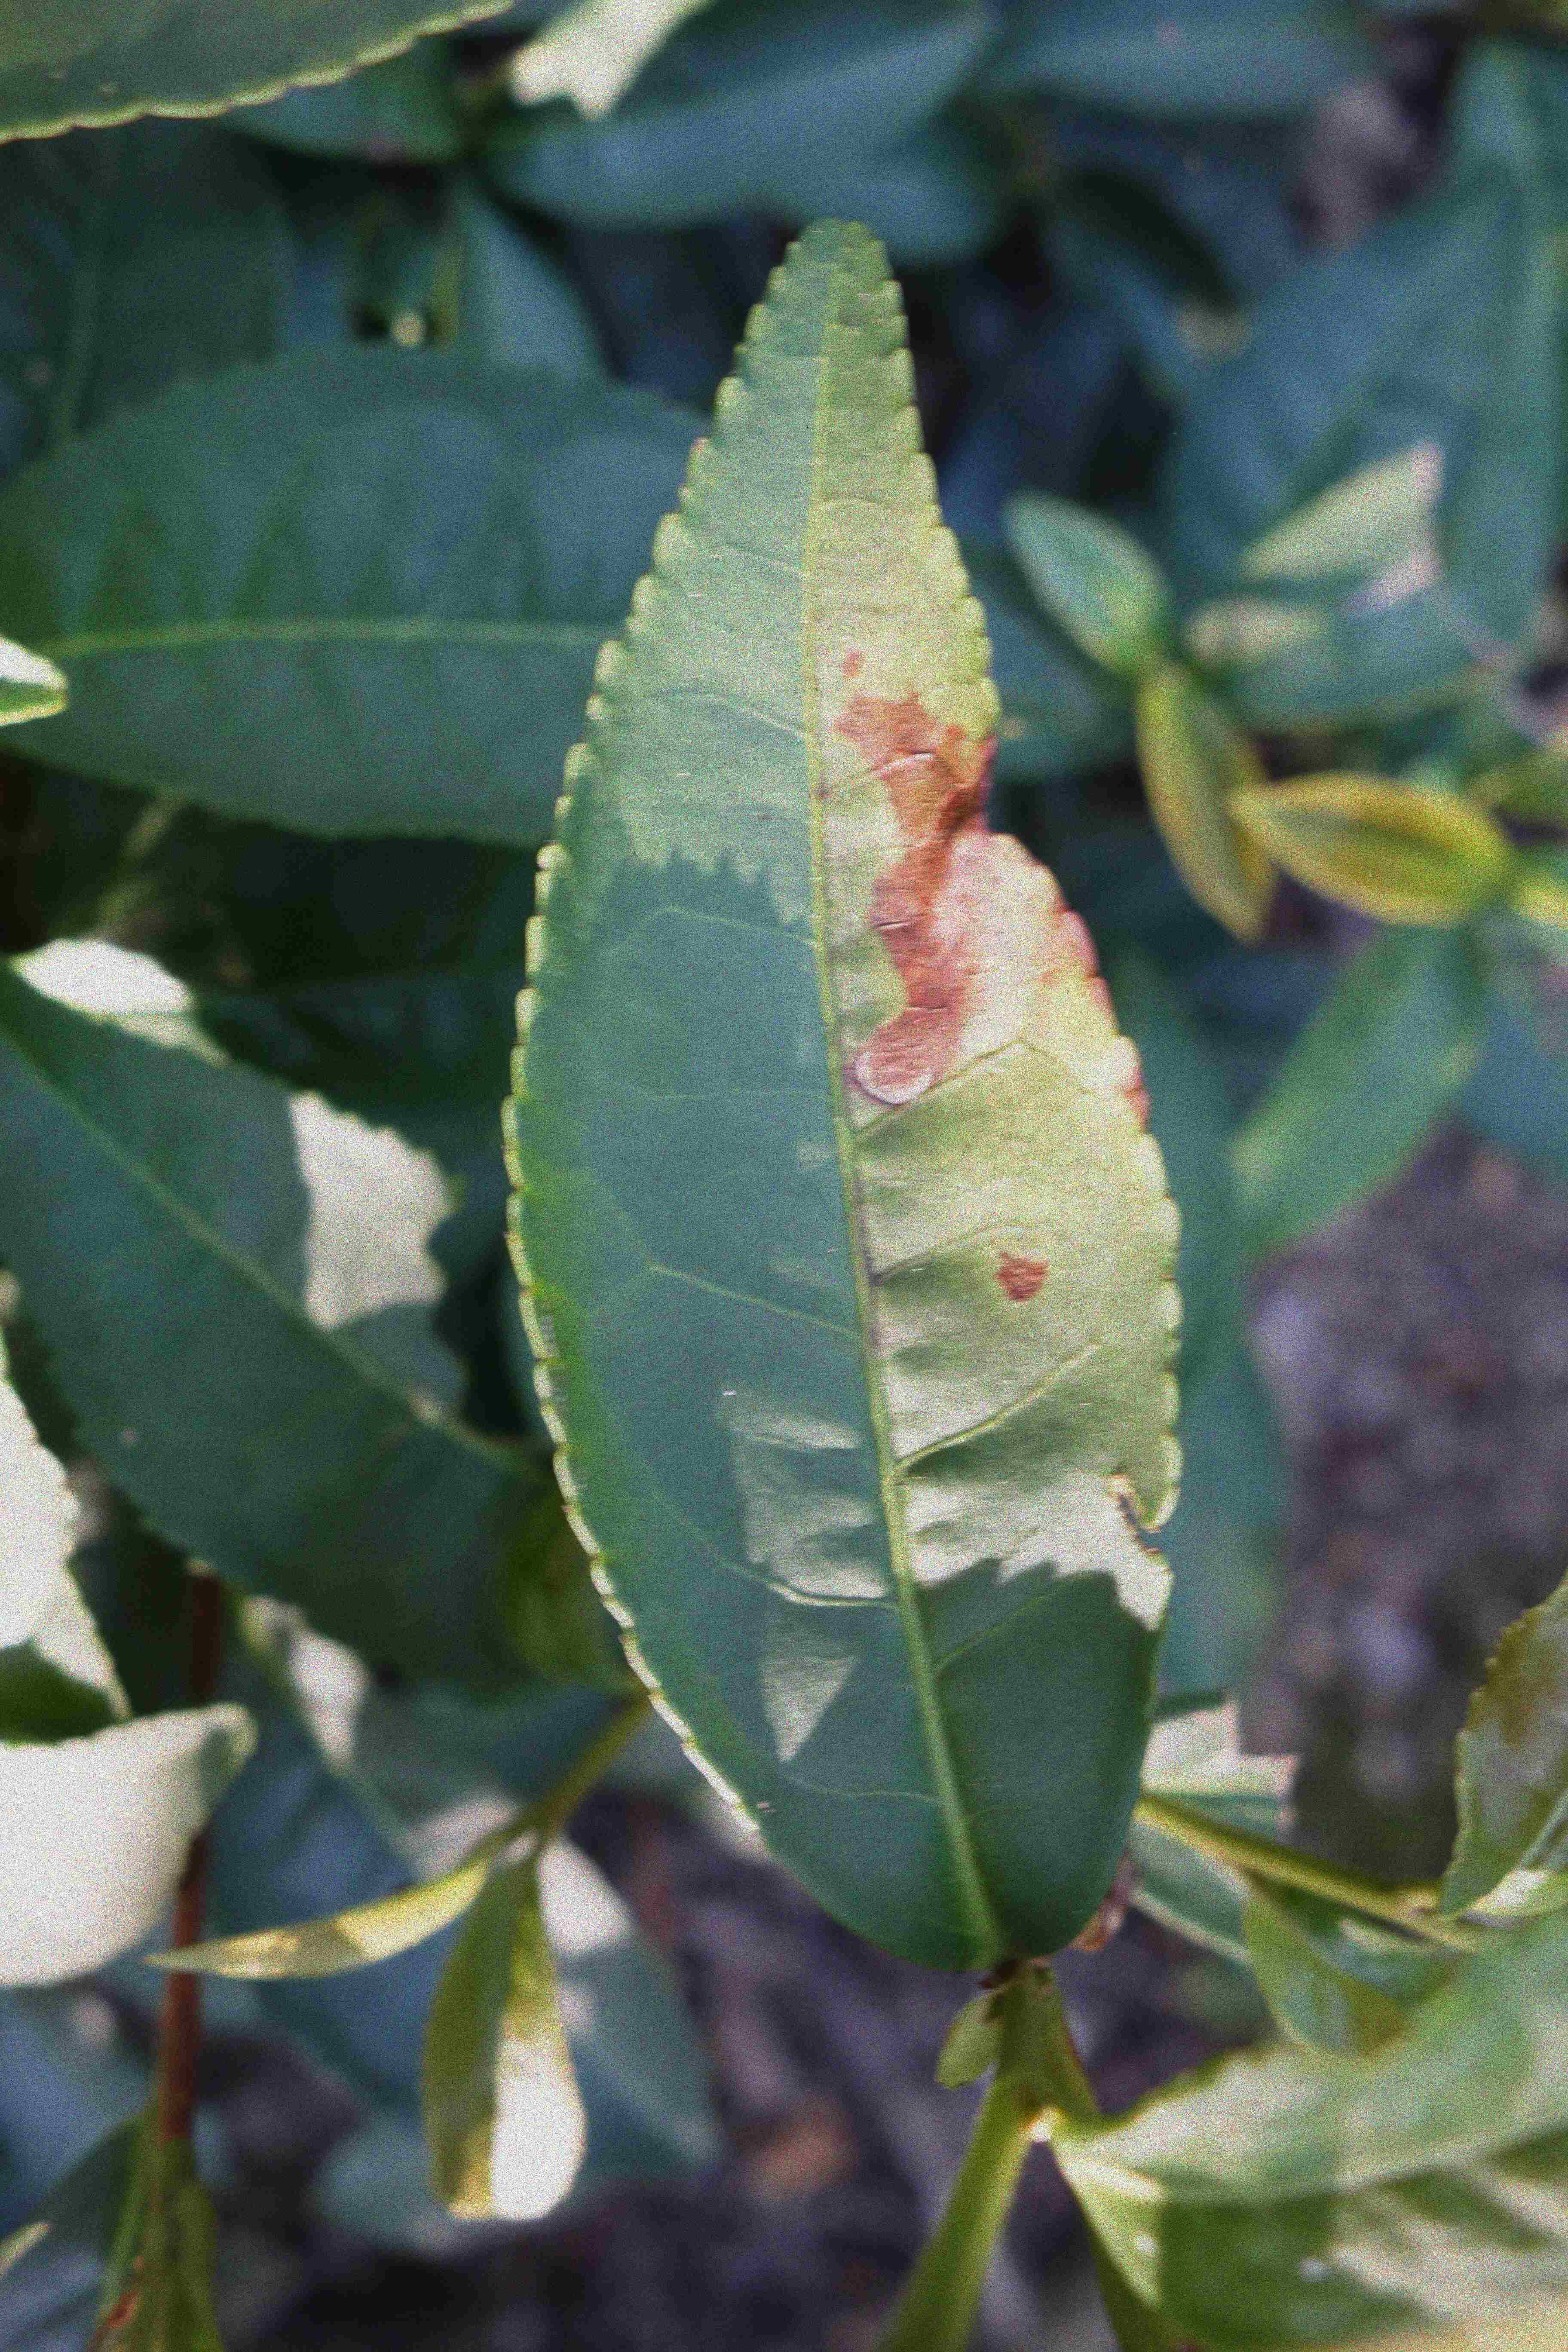tanju_high: (507, 208, 1186, 1955)
tanju_low: (416, 1888, 598, 2229), (149, 1851, 490, 1983), (1437, 1591, 1568, 1925)
